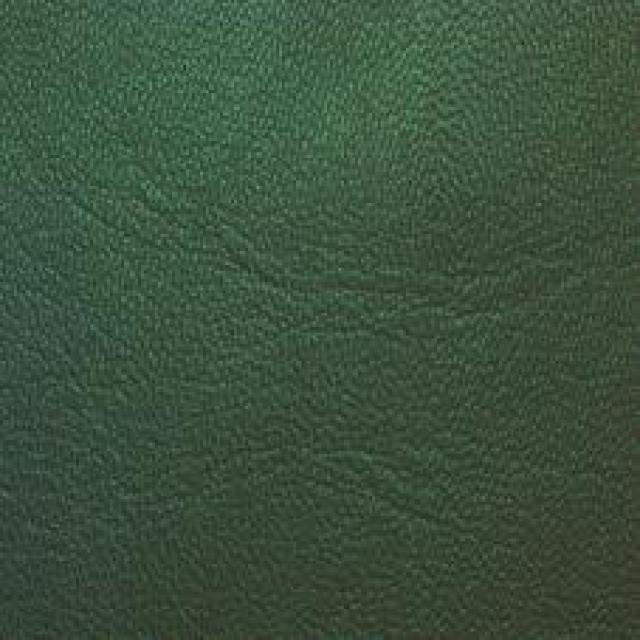Growth Marks: (222, 209, 526, 361), (295, 440, 485, 554)
